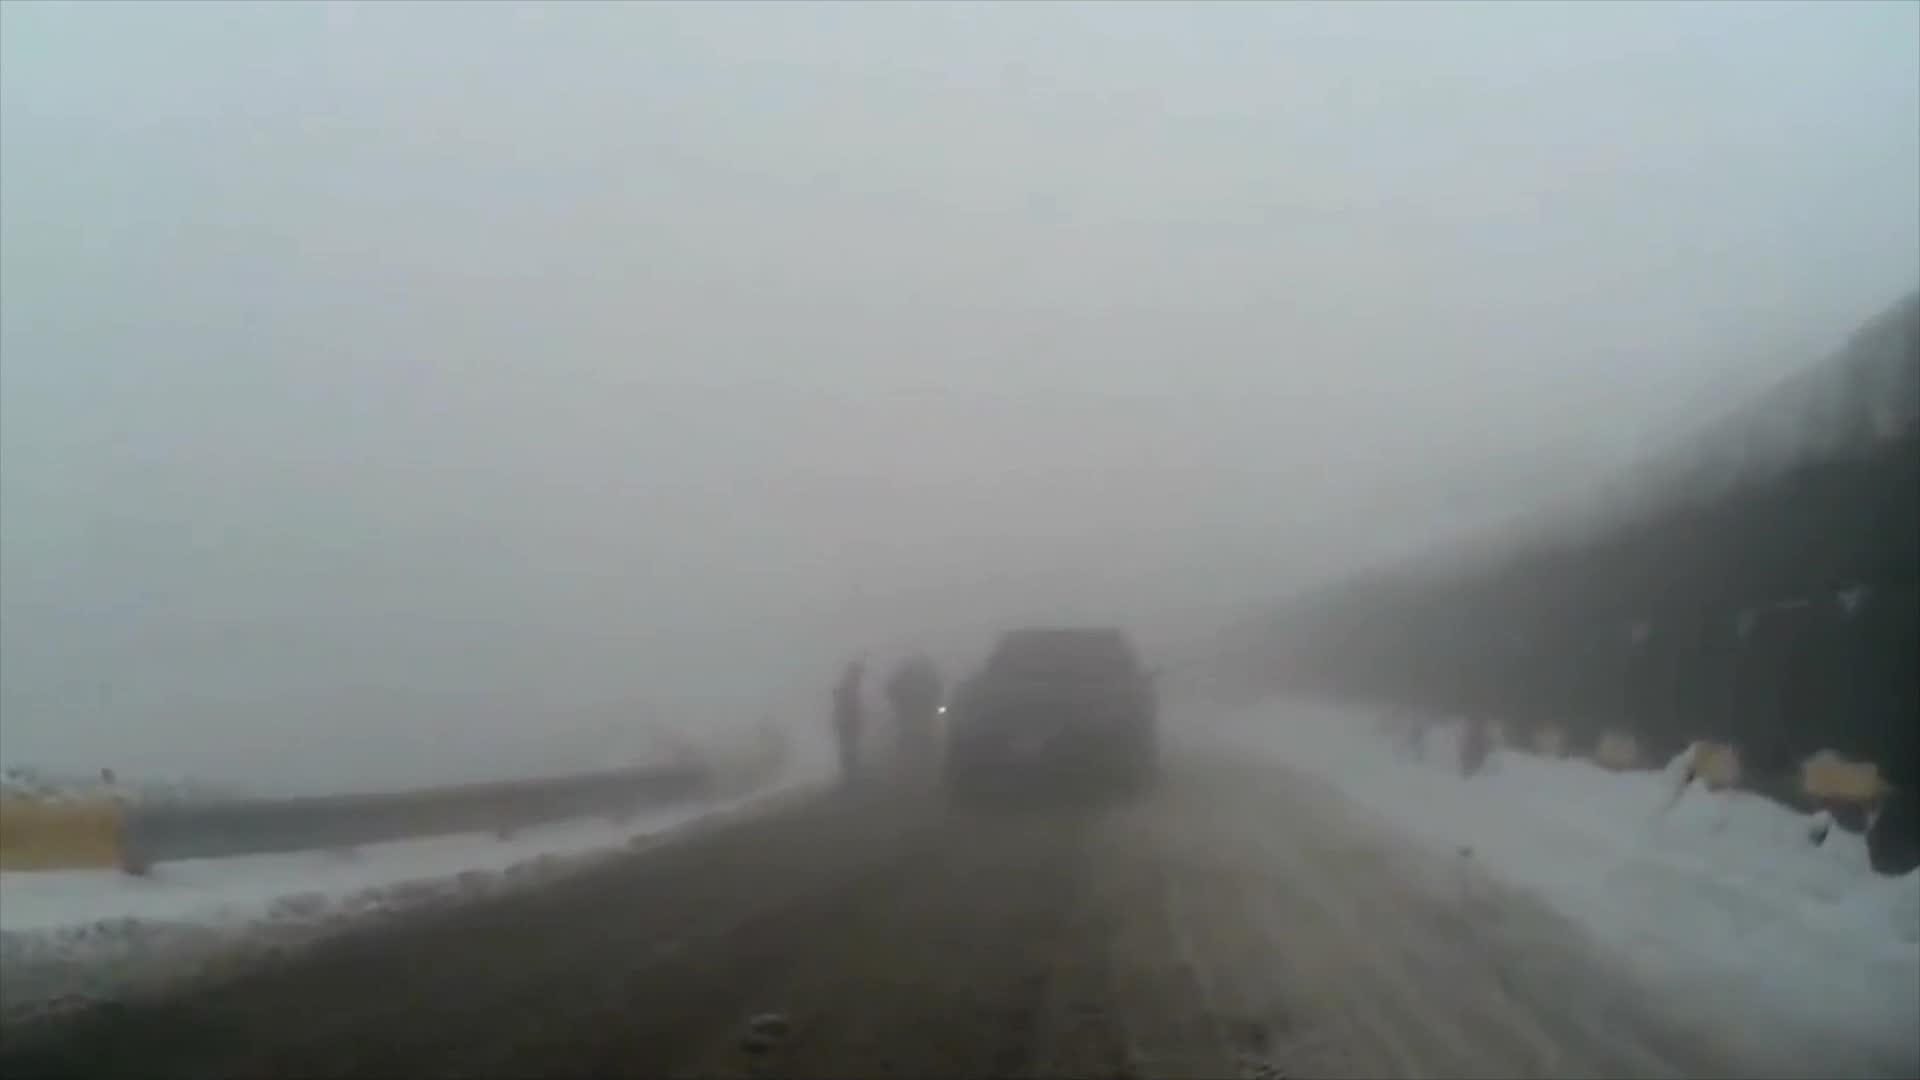pedestrian: (887, 649, 942, 777), (827, 660, 870, 802)
vehicle: (946, 624, 1159, 814)
